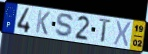2: (74, 15, 91, 43)
4: (16, 7, 32, 34)
K: (34, 10, 51, 36)
S: (54, 13, 76, 40)
T: (98, 17, 113, 45)
X: (113, 20, 133, 49)
